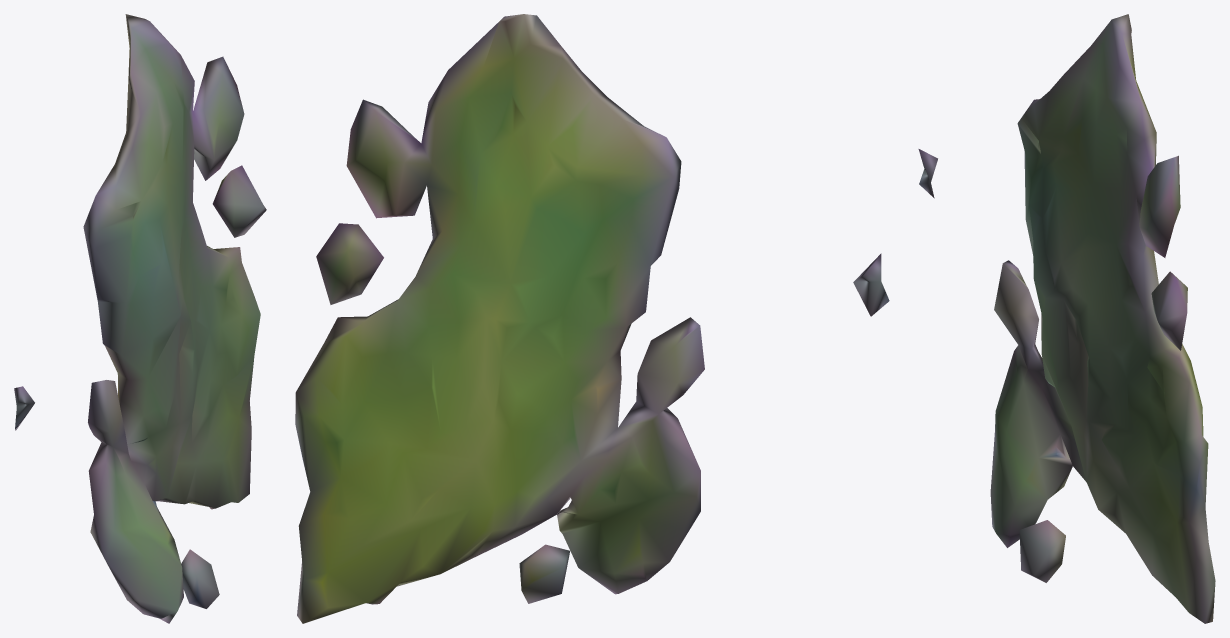
The model's file is nota_re_sustenido.glb.
3 renders of one model, left to right at view 1: azimuth 30°, elevation 25°; view 2: azimuth 150°, elevation 25°; view 3: azimuth 270°, elevation 25°, orthographic. The views are drawn at different scales.
Bounding box in the file's own units: 0.7069 × 0.9928 × 0.4852.
